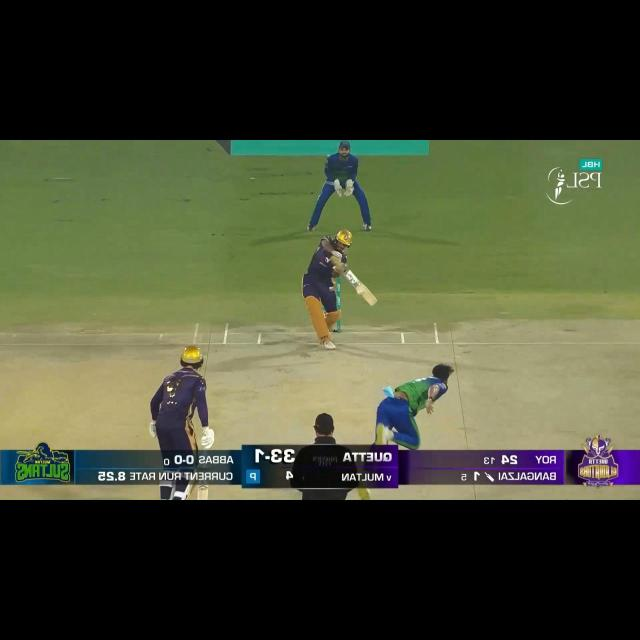bat: (343, 268, 377, 306), (193, 484, 212, 500)
toe: (363, 292, 380, 308), (194, 493, 209, 502)
